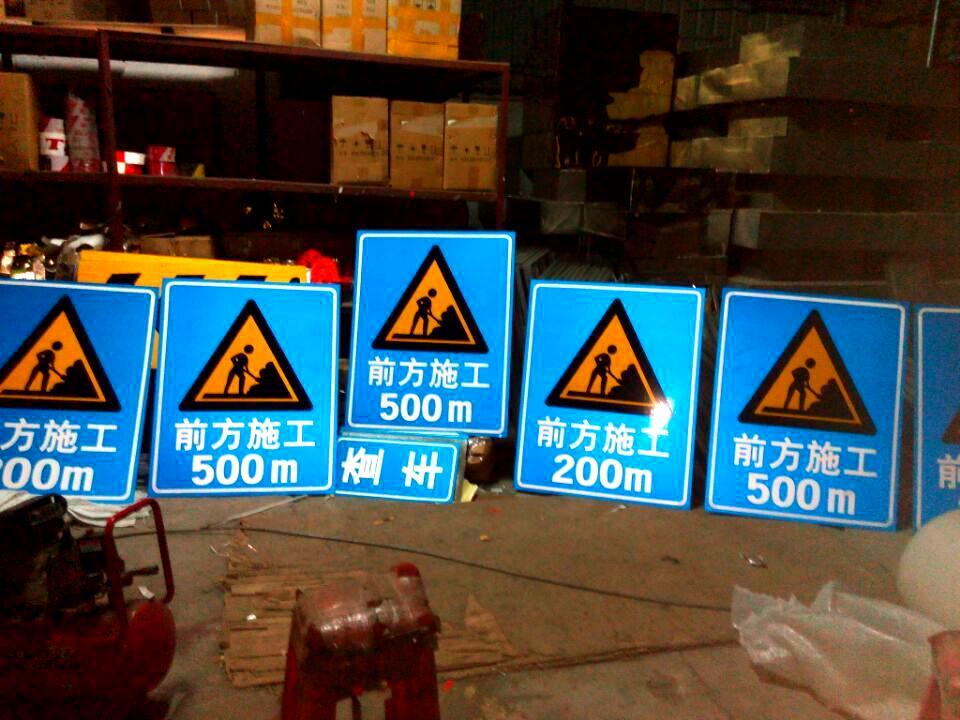sign: (718, 296, 896, 515), (524, 285, 692, 496), (155, 290, 328, 492), (1, 284, 138, 500), (354, 234, 503, 425)
